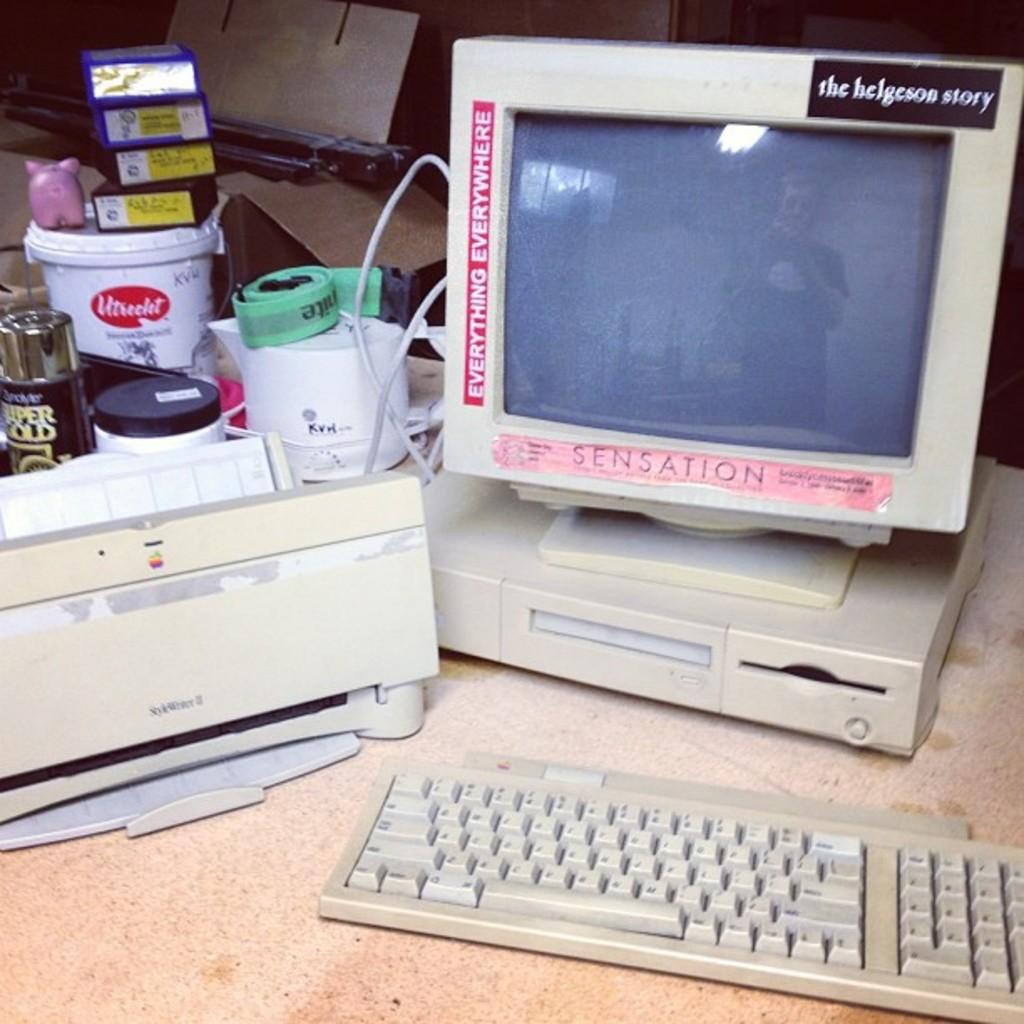Computer-keyboard: (315, 745, 1022, 1022)
Computer-monitor: (412, 62, 1011, 636)
